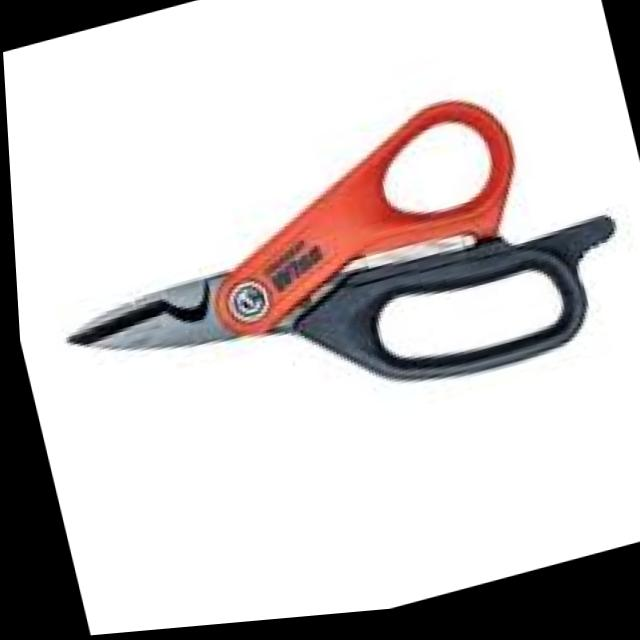scissor: (26, 71, 640, 478)
